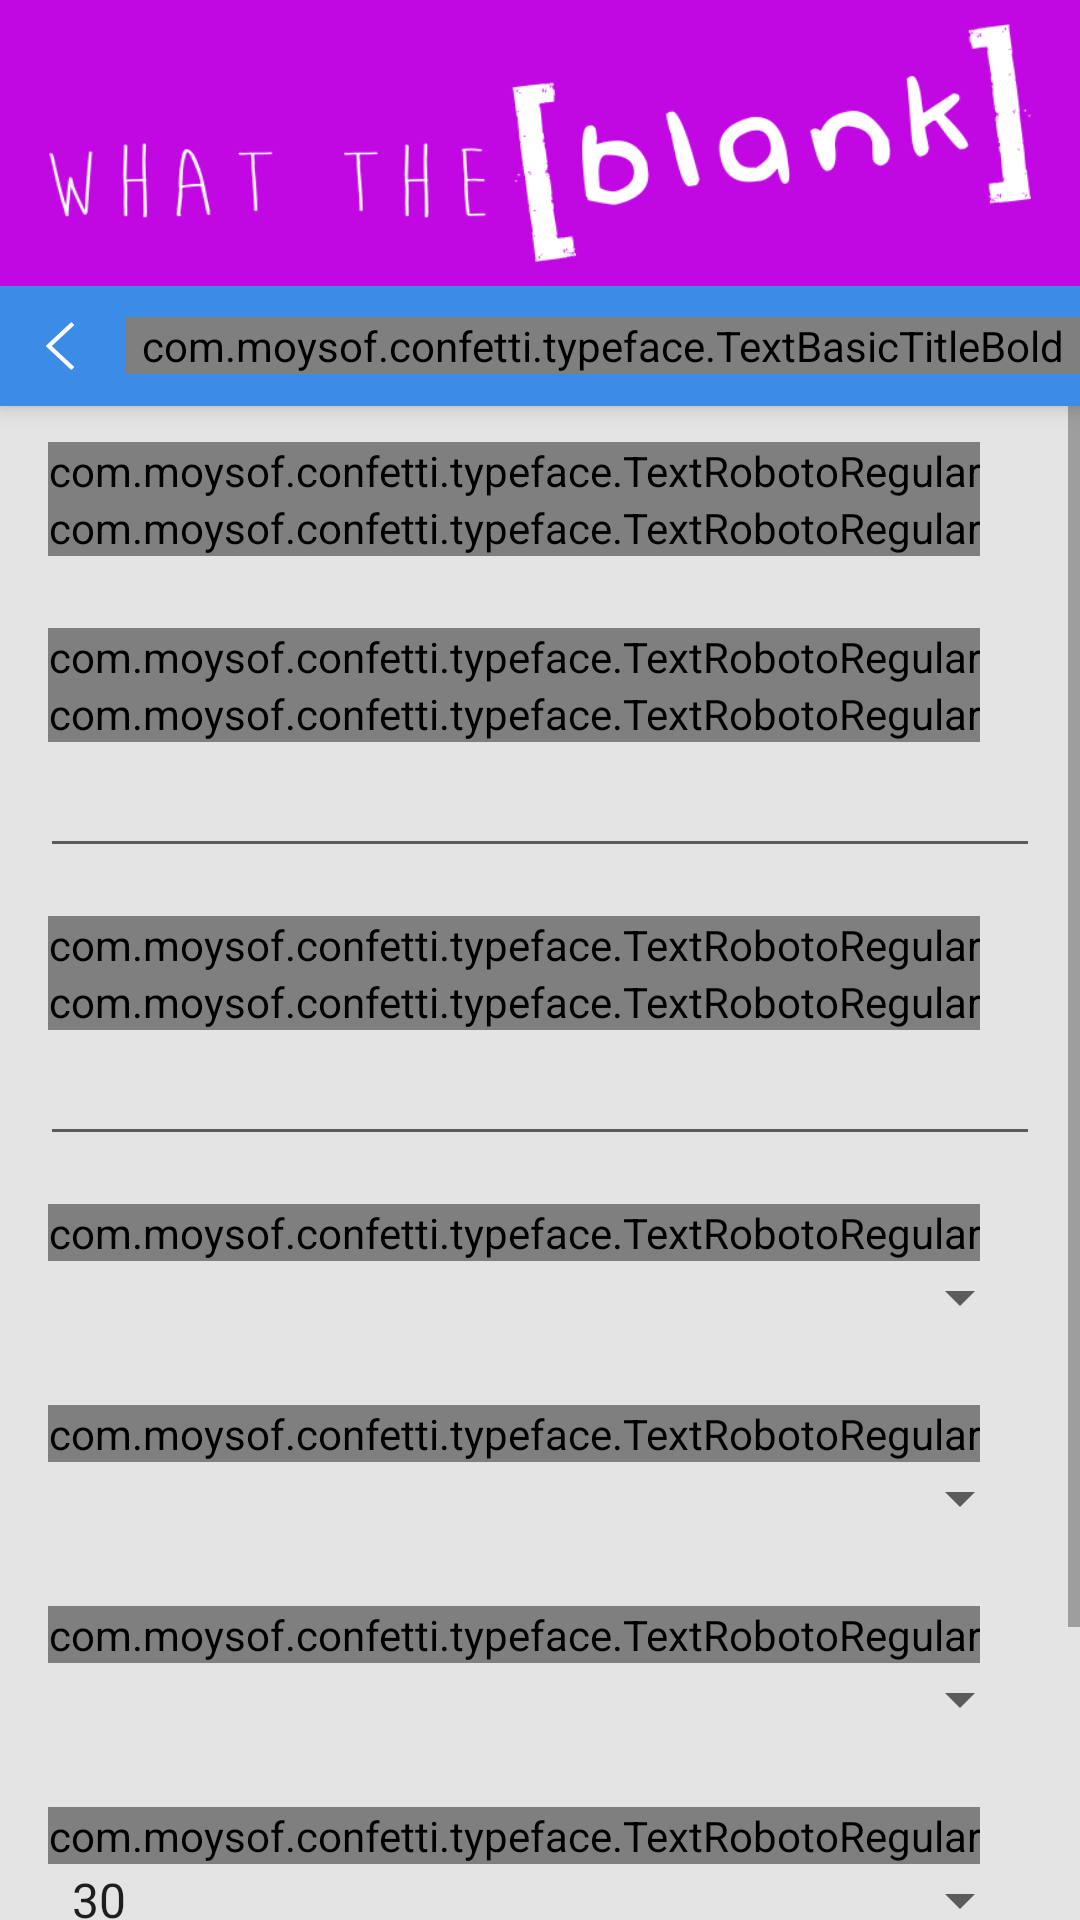

Point at icon controls on the screen. Image size 1080×1920, points as (x,y).
back: (60,346)
